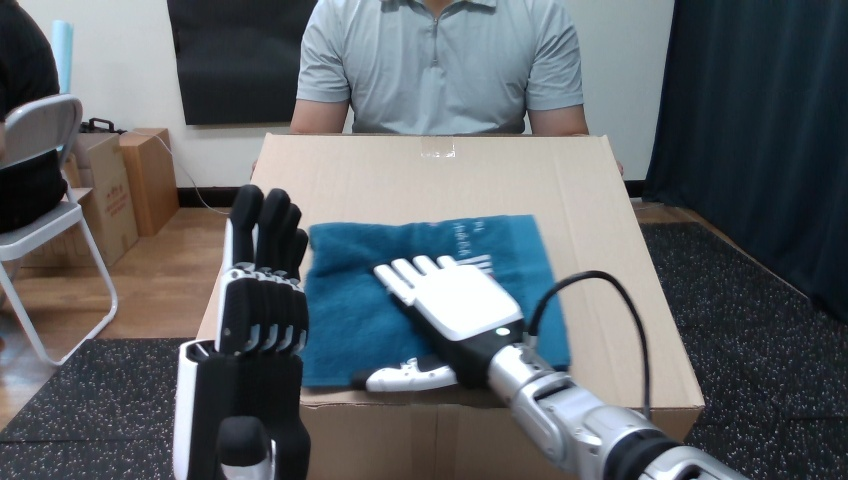left robot hand: (366, 255, 745, 479), (173, 185, 309, 478), (534, 277, 646, 416)
